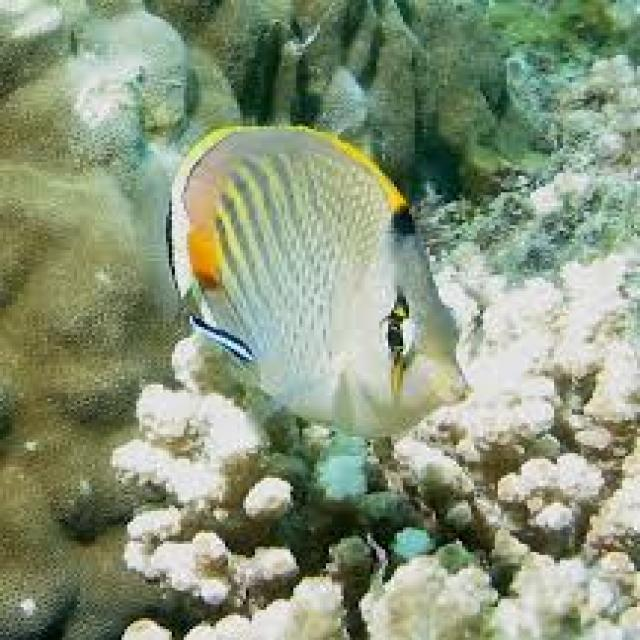ButterflyFish: (138, 107, 500, 440)
